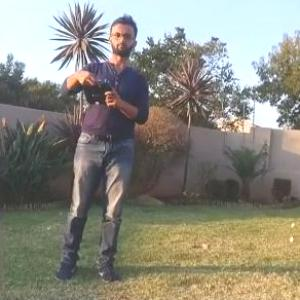follow: (48, 14, 152, 292)
